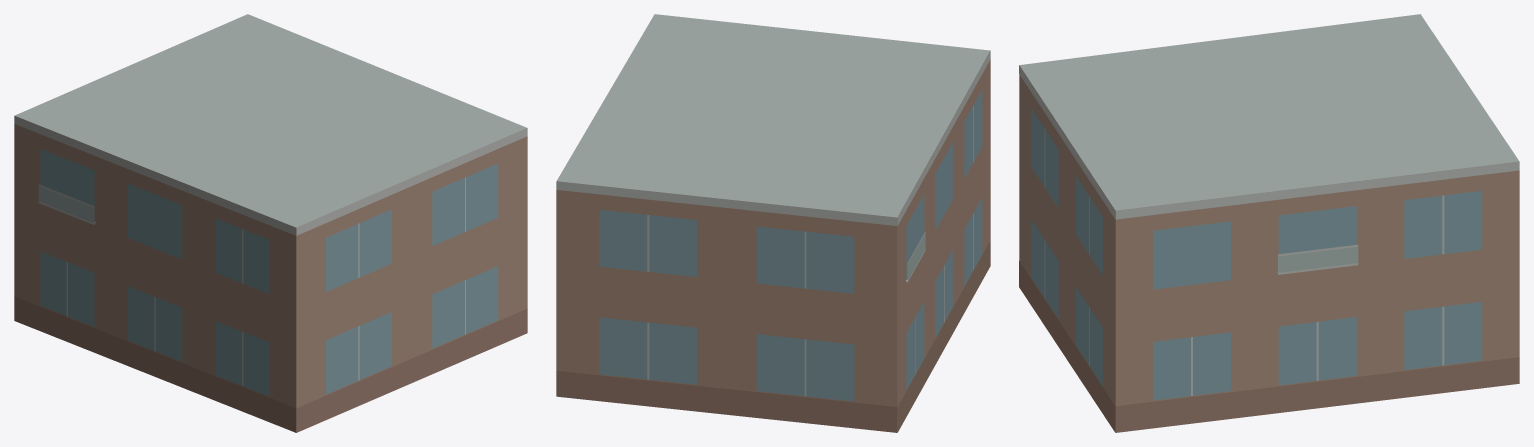
Rendered from survey-upis-33036663.glb.
The picture shows the model from 3 angles, left to right: view 1: azimuth 30°, elevation 25°; view 2: azimuth 150°, elevation 25°; view 3: azimuth 270°, elevation 25°; orthographic projection. The views are drawn at different scales.
Parts seen in each view (by area): view 1: survey-upis-33036663.tmp; view 2: survey-upis-33036663.tmp; view 3: survey-upis-33036663.tmp.
Boxes of the visible parts, box(x1,y1,x2,y2) form: survey-upis-33036663.tmp: box(14, 14, 527, 432); survey-upis-33036663.tmp: box(556, 14, 990, 432); survey-upis-33036663.tmp: box(1019, 14, 1519, 432).
Bounding box in the file's own units: 11.59 × 6.1 × 12.46.
